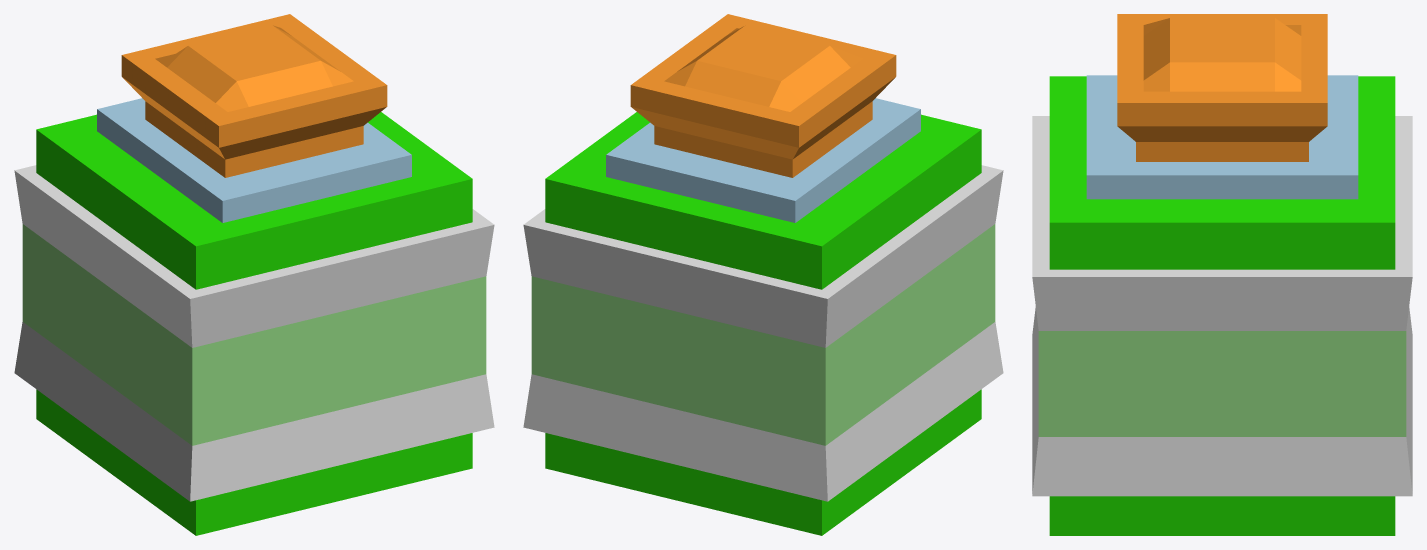
Rendered from grow.fbx.
3 views of the same model, side by side, from view 1: azimuth 30°, elevation 25°; view 2: azimuth 150°, elevation 25°; view 3: azimuth 270°, elevation 25° (orthographic). The views are drawn at different scales.
Visible parts, largest first — view 1: Cube.003, Cube.001, Cube.002, Cube; view 2: Cube.003, Cube.001, Cube.002, Cube; view 3: Cube.003, Cube.001, Cube.002, Cube.
Part boxes in pixels (x1,y1,x2,y2): Cube.003: [14, 165, 494, 501]; Cube.001: [36, 112, 472, 535]; Cube.002: [121, 14, 387, 177]; Cube: [97, 98, 411, 222]; Cube.003: [523, 165, 1003, 501]; Cube.001: [545, 112, 981, 535]; Cube.002: [630, 14, 896, 177]; Cube: [606, 98, 920, 222]; Cube.003: [1032, 116, 1412, 496]; Cube.001: [1049, 76, 1395, 535]; Cube.002: [1117, 14, 1327, 161]; Cube: [1086, 75, 1358, 199].
Bounding box in the file's own units: 110 × 135 × 110.
